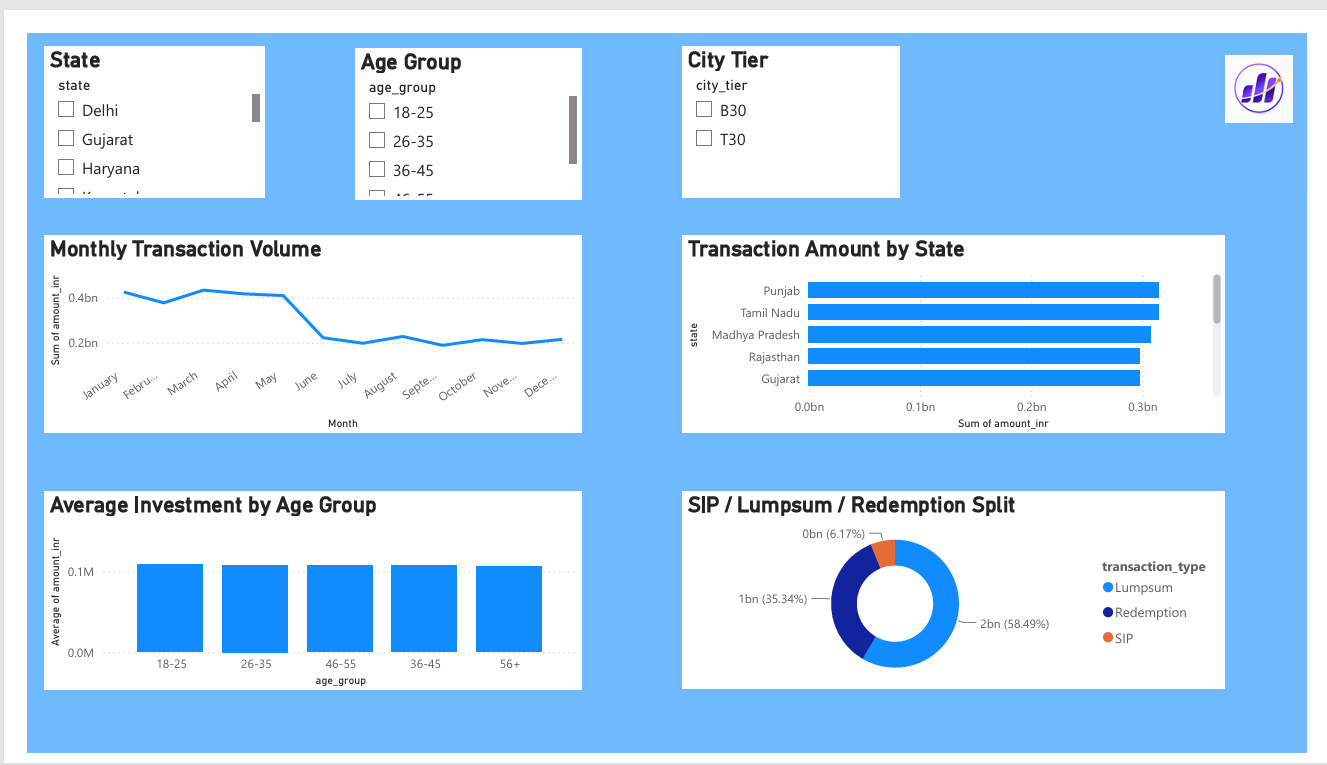

What the dashboard file says about the page in this screenshot:
{"tool":"powerbi","page":{"name":"Investor Analytics","canvas":[1280,720],"ordinal":2},"visuals":[{"type":"image","box":[1198.3,8.3,66.7,93.3],"z":0},{"type":"clusteredColumnChart","title":"Average Investment by Age Group","fields":{"Category":["08_investor_transactions.age_group"],"Y":["Avg(08_investor_transactions.amount_inr)"]},"box":[16.7,458.3,538.3,198.3],"z":1000},{"type":"slicer","title":"State","fields":{"Values":["08_investor_transactions.state"]},"box":[16.7,13.3,221.7,151.7],"z":2000},{"type":"clusteredBarChart","title":"Transaction Amount by State","fields":{"Category":["08_investor_transactions.state"],"Y":["Sum(08_investor_transactions.amount_inr)"]},"box":[655,201.7,543.3,198.3],"z":3000},{"type":"lineChart","title":"Monthly Transaction Volume","fields":{"Category":["08_investor_transactions.transaction_date.Variation.Date Hierarchy.Month"],"Y":["Sum(08_investor_transactions.amount_inr)"]},"box":[16.7,201.7,538.3,198.3],"z":4000},{"type":"slicer","title":"Age Group","fields":{"Values":["08_investor_transactions.age_group"]},"box":[328.3,15,226.7,151.7],"z":5000},{"type":"slicer","title":"City Tier","fields":{"Values":["08_investor_transactions.city_tier"]},"box":[655,13.3,218.3,151.7],"z":6000},{"type":"donutChart","title":"SIP / Lumpsum / Redemption Split","fields":{"Category":["08_investor_transactions.transaction_type"],"Y":["Sum(08_investor_transactions.amount_inr)"]},"box":[655,458,543,198],"z":7000}]}

Visuals, with their boxes in screenshot pixels (x1, y1, x2, y2), scaled from the page's 1280x720 canvas onto the 1327x765 screenshot:
image: (1242,9,1311,108)
"Average Investment by Age Group" clusteredColumnChart: (17,487,575,698)
"State" slicer: (17,14,247,175)
"Transaction Amount by State" clusteredBarChart: (679,214,1242,425)
"Monthly Transaction Volume" lineChart: (17,214,575,425)
"Age Group" slicer: (340,16,575,177)
"City Tier" slicer: (679,14,905,175)
"SIP / Lumpsum / Redemption Split" donutChart: (679,487,1242,697)
